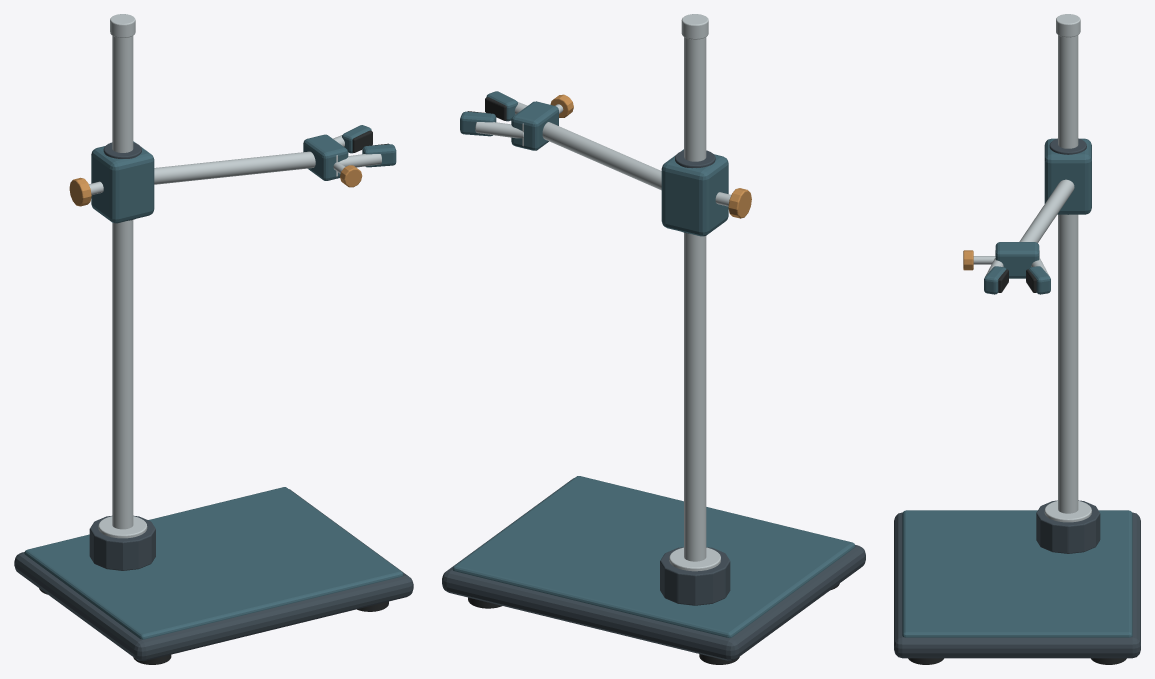
File: stand.glb
3 views of the same model, side by side, from view 1: azimuth 30°, elevation 25°; view 2: azimuth 150°, elevation 25°; view 3: azimuth 270°, elevation 25° (orthographic). The views are drawn at different scales.
Parts seen in each view (by area): view 1: Enamel base plate, Upright, Cast iron foot, Boss head, Clamp arm, Collar, Clamp bridge, Collar washer; view 2: Enamel base plate, Cast iron foot, Upright, Boss head, Collar, Clamp arm, Clamp bridge, Collar washer, Upright cap; view 3: Enamel base plate, Upright, Cast iron foot, Boss head, Collar, Clamp bridge, Clamp arm, Collar washer, Upright cap, Front jaw shell, Rear jaw shell.
Part boxes in pixels (x1,y1,x2,y2): Enamel base plate: (24, 487, 403, 639); Upright: (112, 36, 133, 529); Cast iron foot: (14, 489, 413, 661); Boss head: (91, 141, 154, 223); Clamp arm: (154, 151, 315, 184); Collar: (89, 515, 155, 570); Clamp bridge: (303, 134, 348, 180); Collar washer: (98, 516, 147, 538); Enamel base plate: (452, 476, 855, 637); Cast iron foot: (442, 478, 865, 660); Upright: (684, 37, 706, 561); Boss head: (661, 149, 728, 236); Collar: (660, 547, 730, 605); Clamp arm: (542, 122, 661, 190); Clamp bridge: (511, 101, 558, 150); Collar washer: (669, 547, 720, 571); Upright cap: (681, 14, 708, 39); Enamel base plate: (902, 510, 1132, 637); Upright: (1058, 35, 1078, 513); Cast iron foot: (894, 512, 1140, 658); Boss head: (1044, 138, 1091, 214); Collar: (1036, 500, 1100, 553); Clamp bridge: (995, 242, 1039, 278); Clamp arm: (1019, 179, 1074, 242); Collar washer: (1044, 501, 1091, 522); Upright cap: (1056, 14, 1080, 37); Front jaw shell: (984, 266, 1006, 294); Rear jaw shell: (1028, 266, 1050, 294).
Size of the model in its own units: 0.2038 by 0.363 by 0.146.
